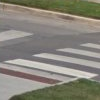crosswalk: (3, 42, 99, 77)
